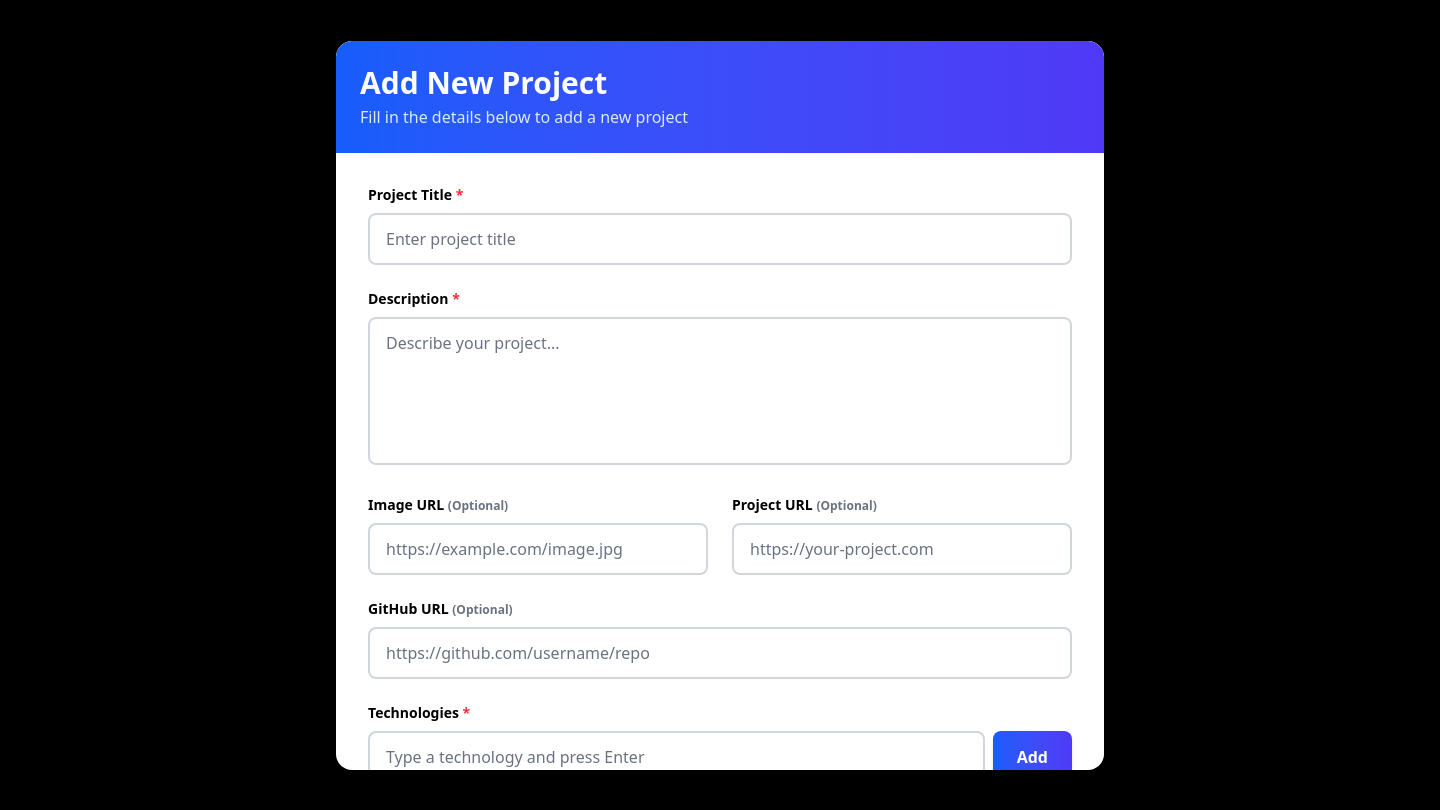
Test case: Form Integration Tests › should show loading state during submission
The width and height of the screenshot is (1440, 810).
// Fill required fields
Type "Test Project" into the field labelled "Project Title *" at (720, 238), box [368,212,1072,264]
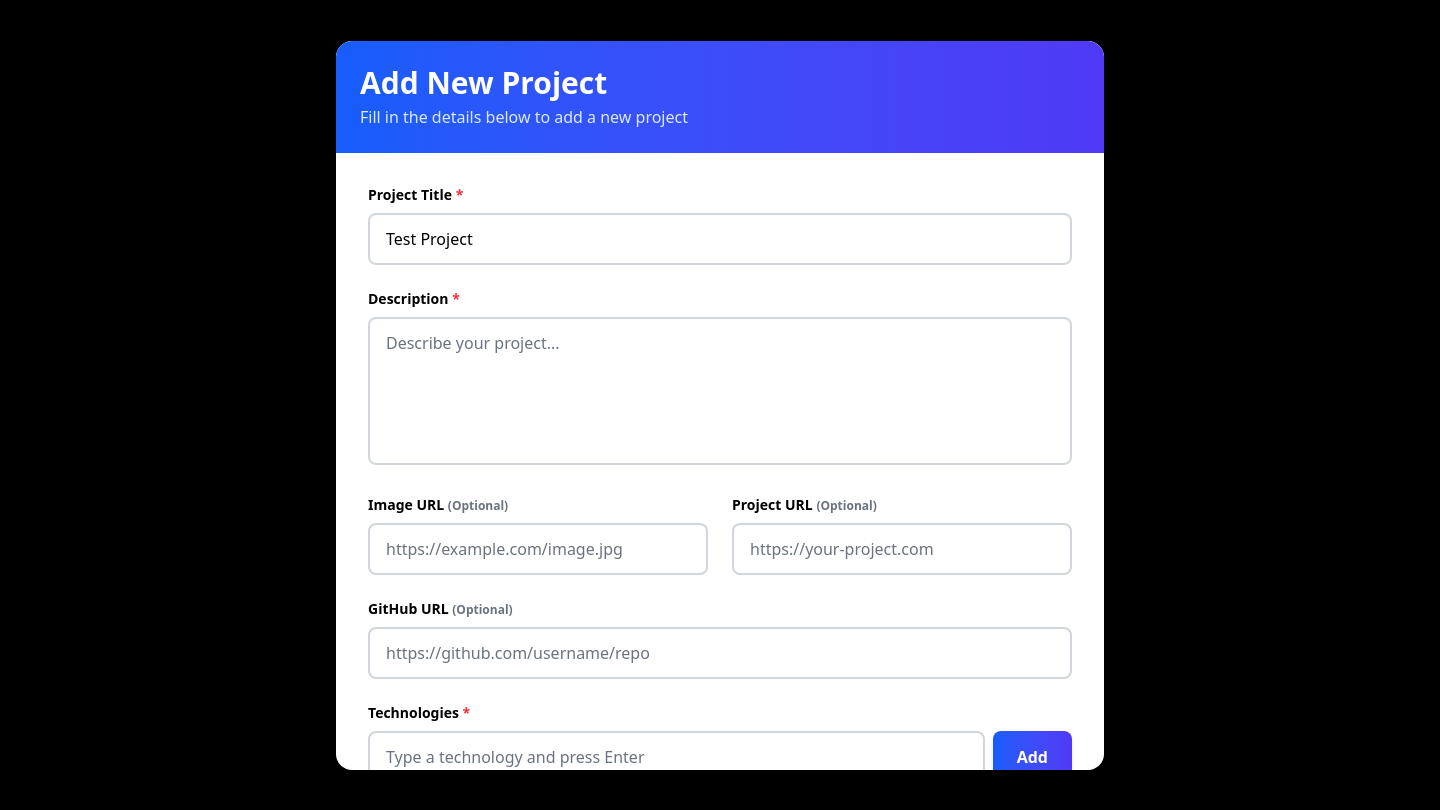
Type "Test description" into the text box labelled "Description *" at (720, 390), box [368,316,1072,464]
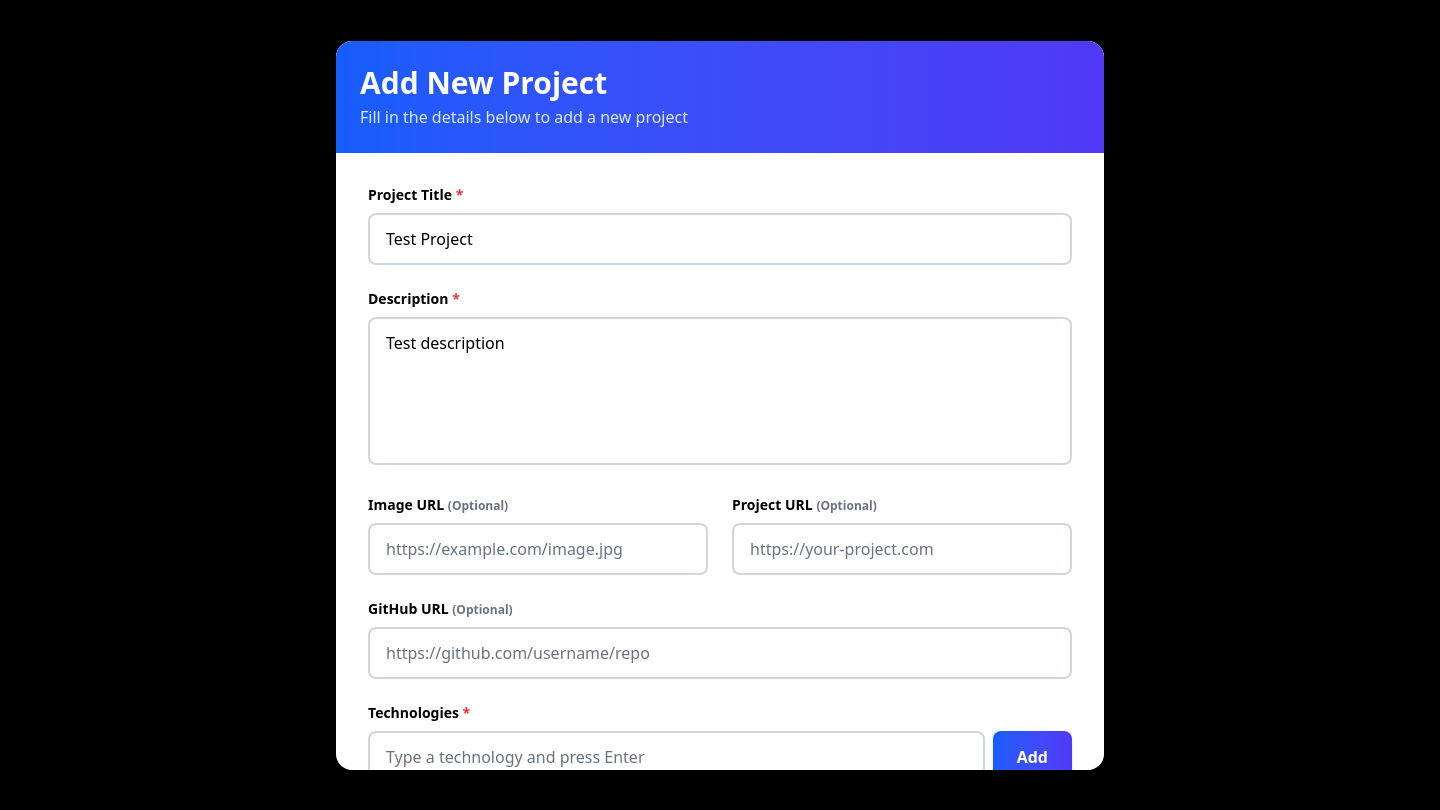
// Add a technology
Type "React" into the field with placeholder "Type a technology and press Enter" at (676, 756), box [368,730,985,782]
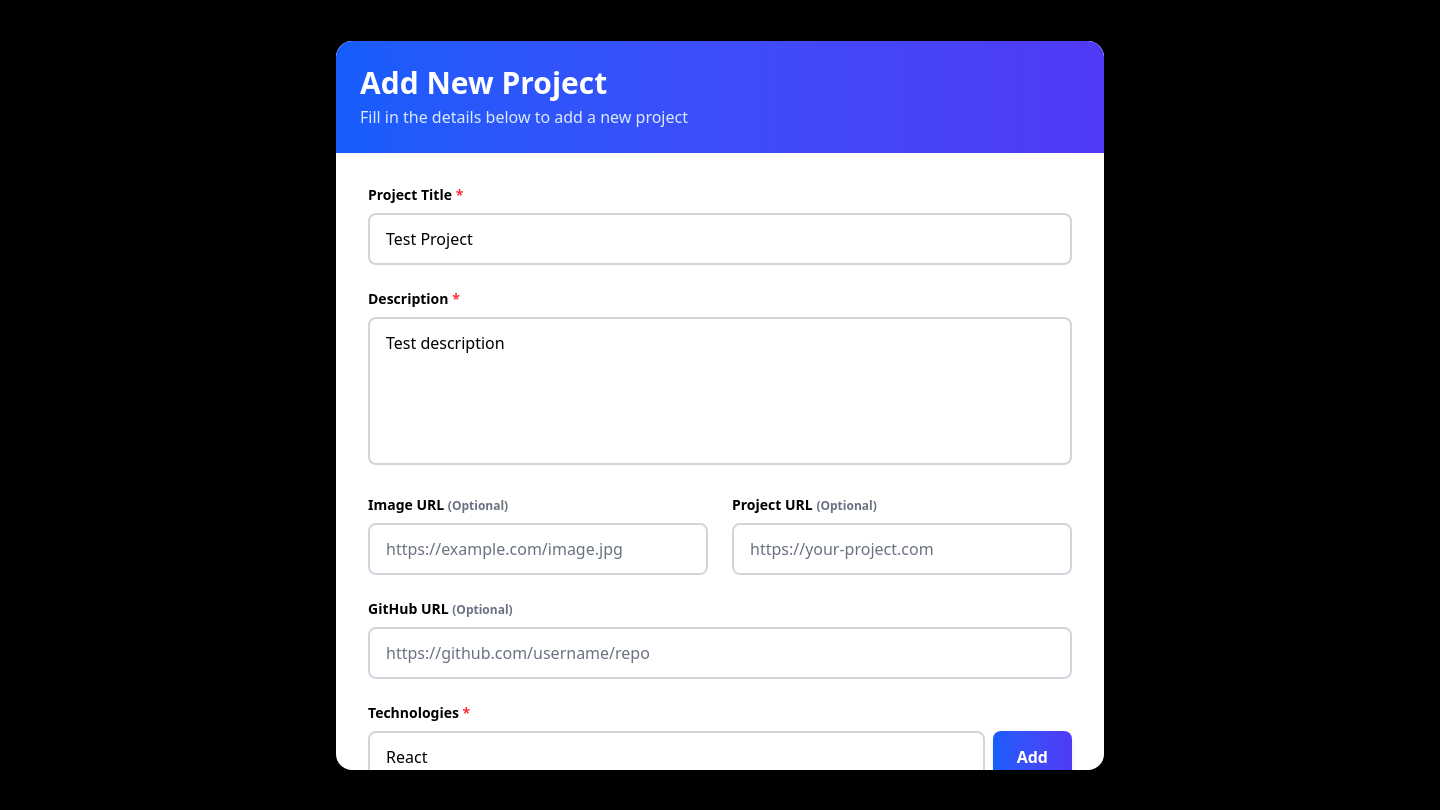
Click the button "Add" at (1032, 756), box [993,730,1072,782]
(page scrolled)
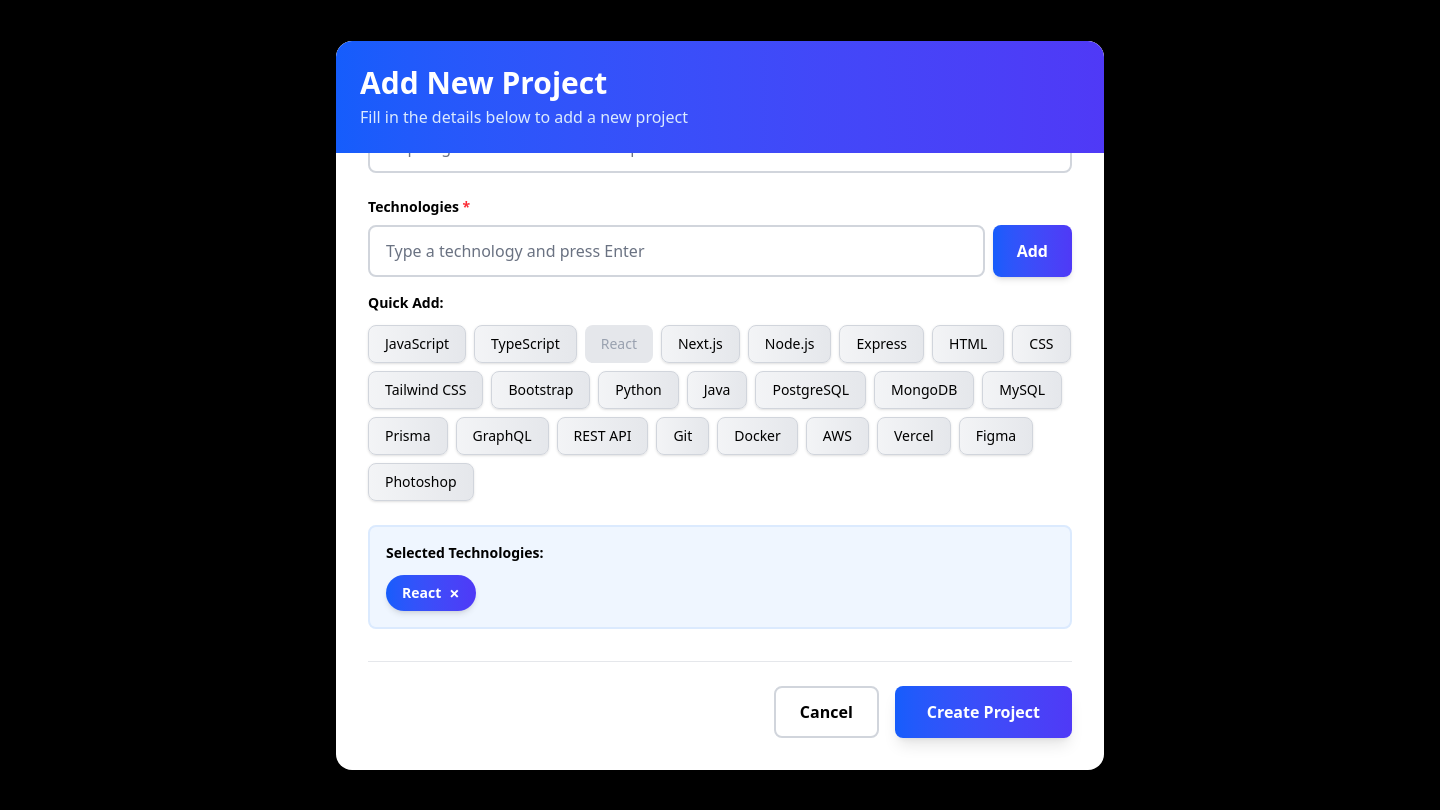
Click the button "Create Project" at (983, 712), box [895,686,1072,738]
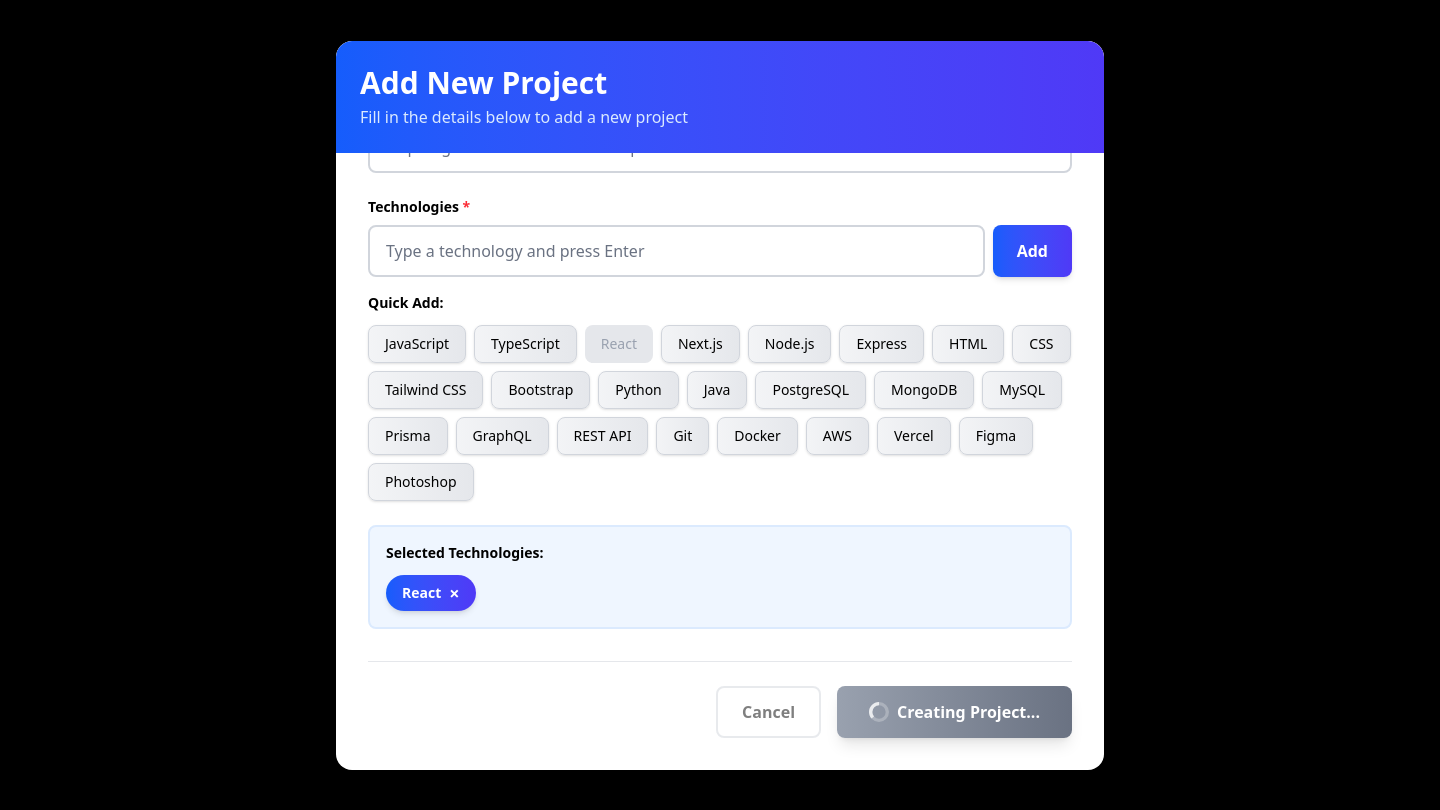
Result: the text "Creating Project..." is shown at [869,700,1040,724]
Result: the button named "Create Project" is disabled at [837,686,1072,738]
